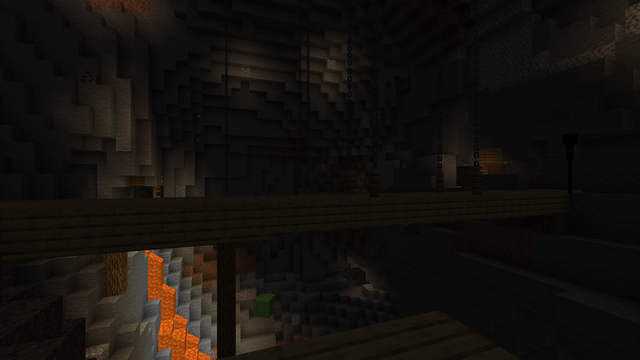endermens: (558, 131, 581, 193)
slimes: (256, 291, 274, 318)
